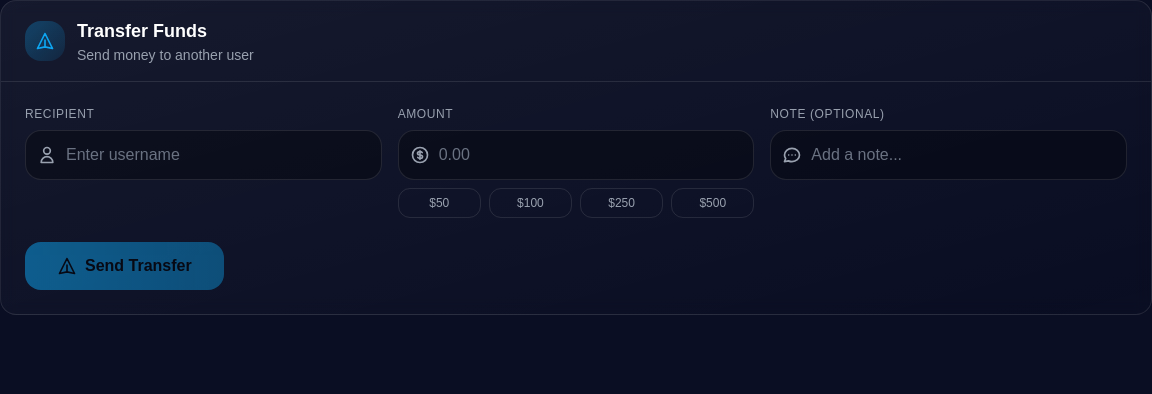
Test case: TransferFunds › shows success message after successful transfer
Type "alice" into the field with placeholder "Enter username" at (203, 155), box [25, 130, 382, 180]
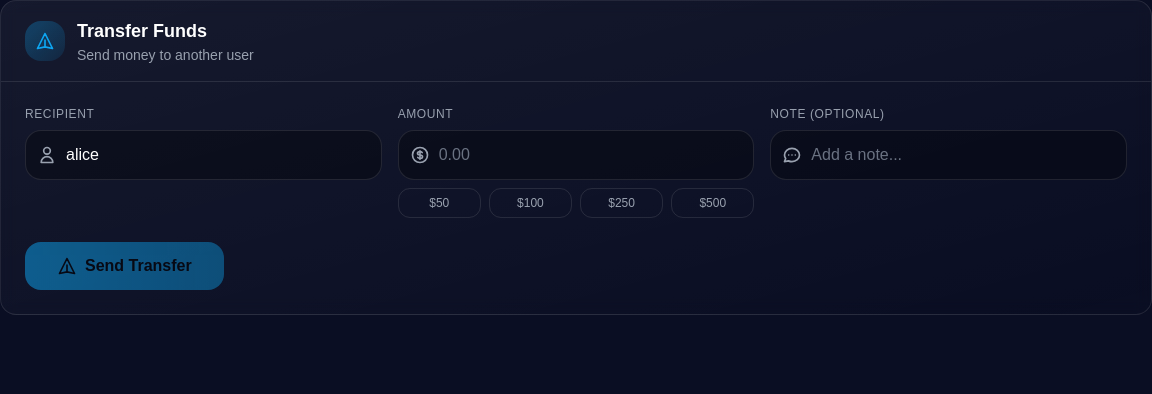
Type "100" into the number field with placeholder "0.00" at (576, 155), box [398, 130, 754, 180]
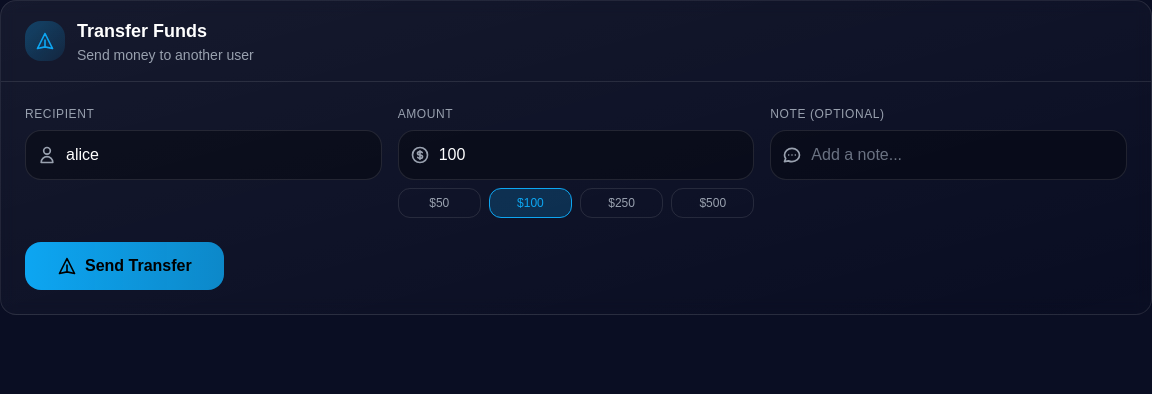
Click the button "Send Transfer" at (124, 266), box [25, 242, 224, 290]
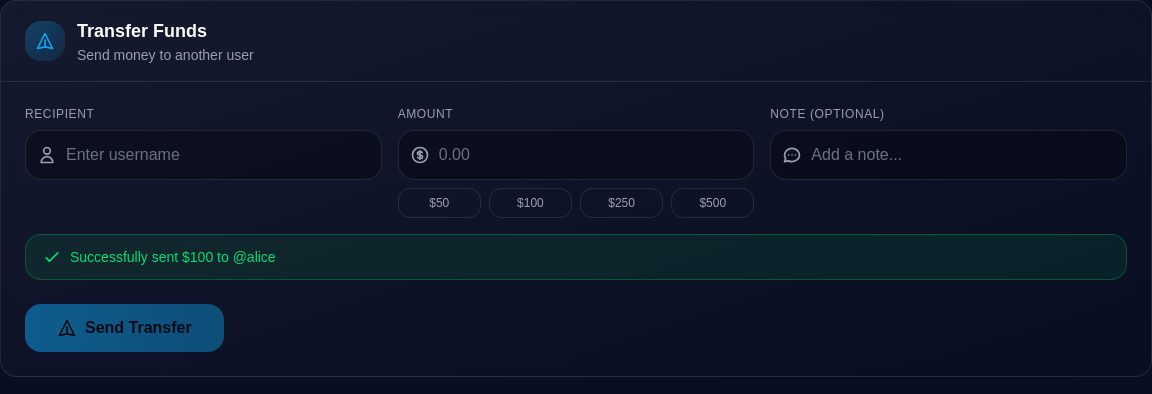
expect the text "Successfully sent $100 to @alice" is shown: met, box [70, 247, 276, 267]
